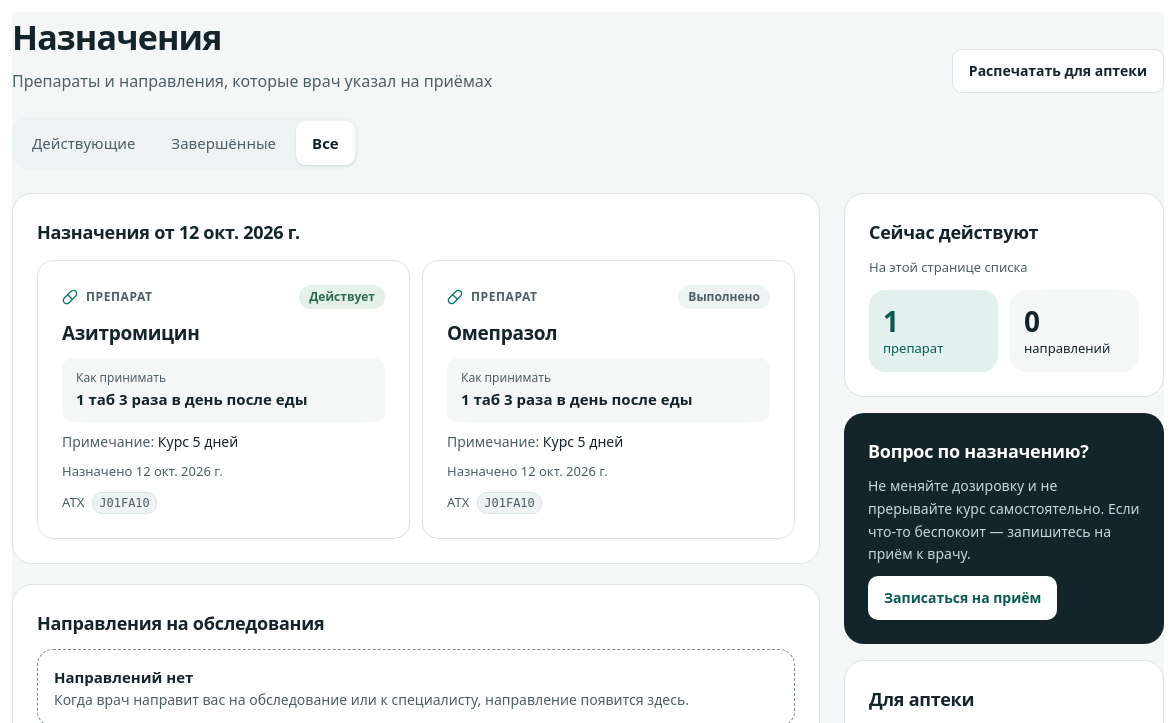
it: PrescriptionList › should show only running items on the active tab and only closed ones on the completed tab
Expected: the heading "Омепразол" is shown, x1=447 y1=320 x2=557 y2=346
What coordinates should you click on to do the following:
click the tab "Действующие"
I would click on:
 (84, 143)
Its box is x1=16 y1=121 x2=151 y2=165.
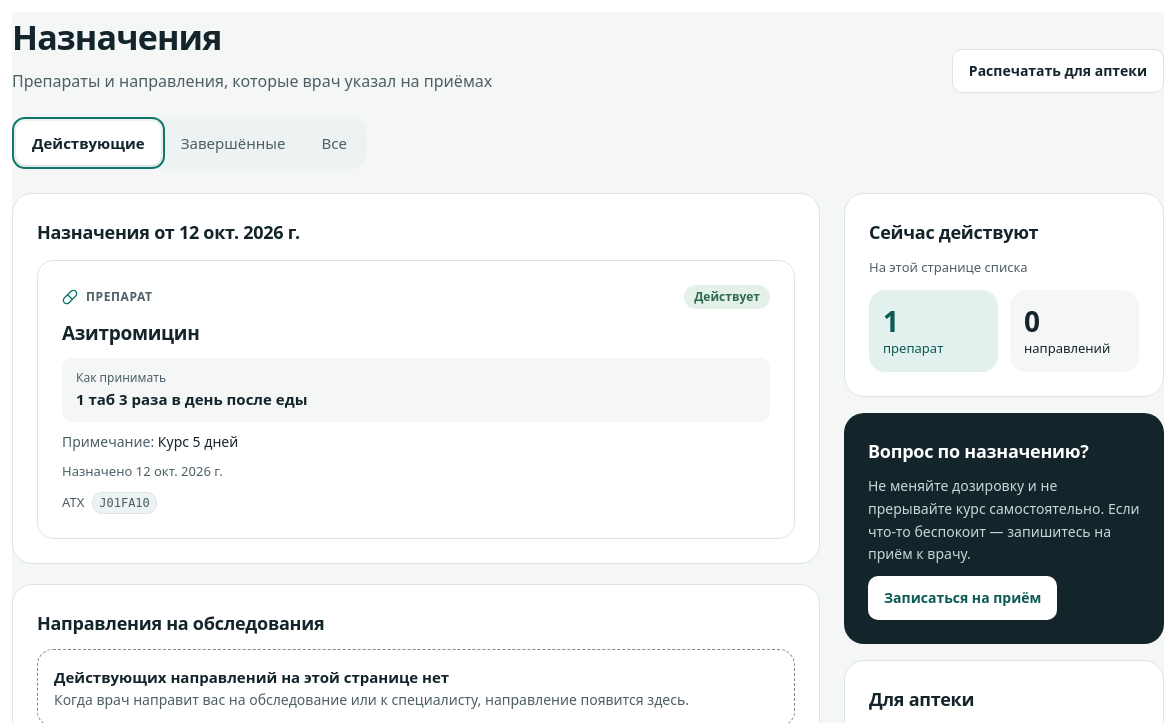
Expected: the heading "Азитромицин" is shown, x1=62 y1=320 x2=200 y2=346
Expected: the heading "Омепразол" is gone
What coordinates should you click on to do the following:
click the tab "Завершённые"
I would click on:
 (233, 143)
Its box is x1=165 y1=121 x2=301 y2=165.
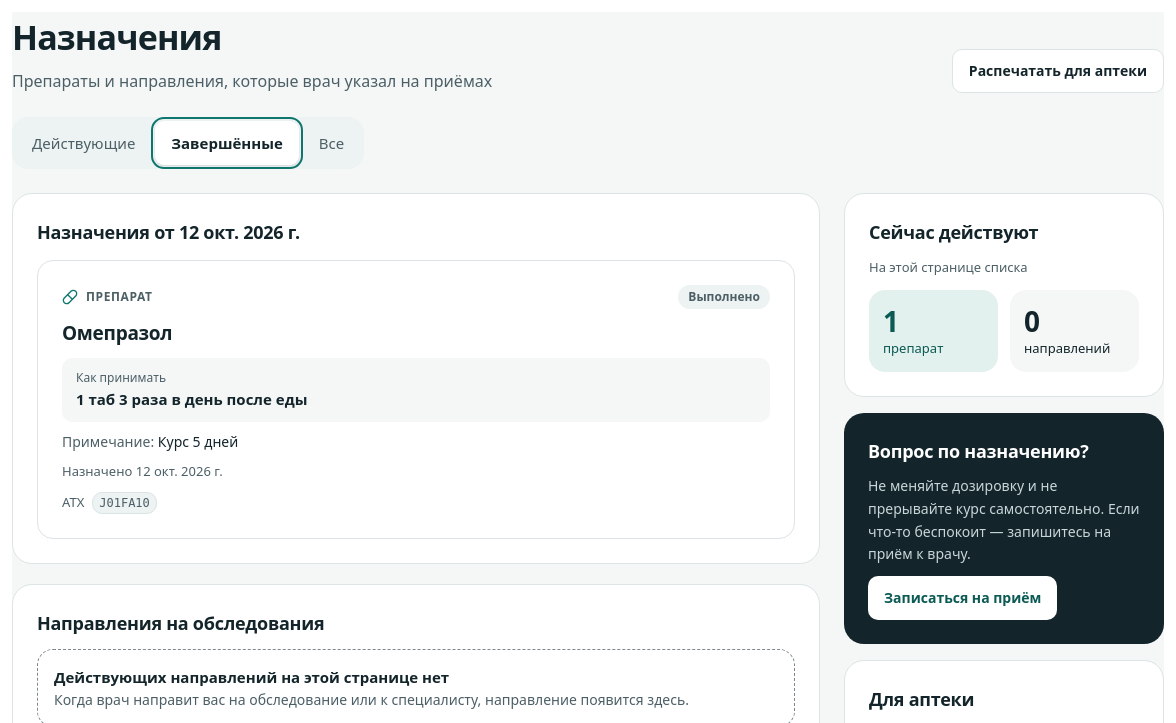
Expected: the heading "Омепразол" is shown, x1=62 y1=320 x2=172 y2=346
Expected: the heading "Азитромицин" is gone
